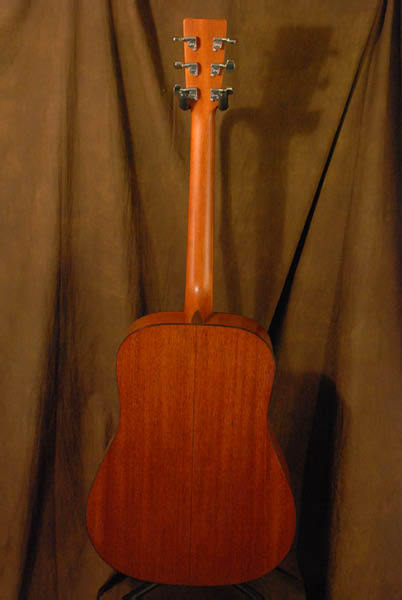guitar: (92, 13, 301, 589)
